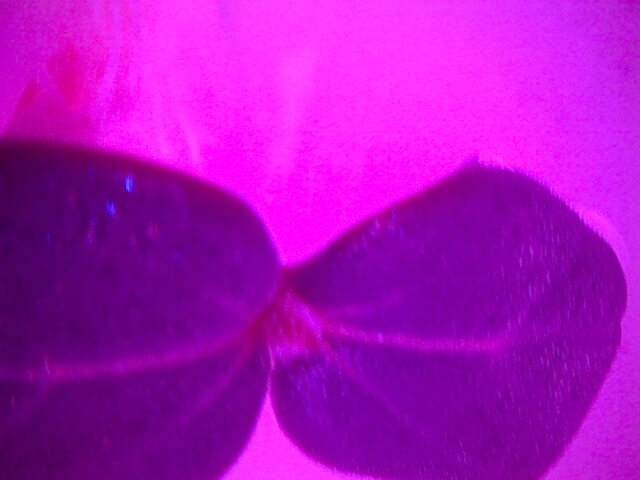seedling: (12, 163, 565, 480)
